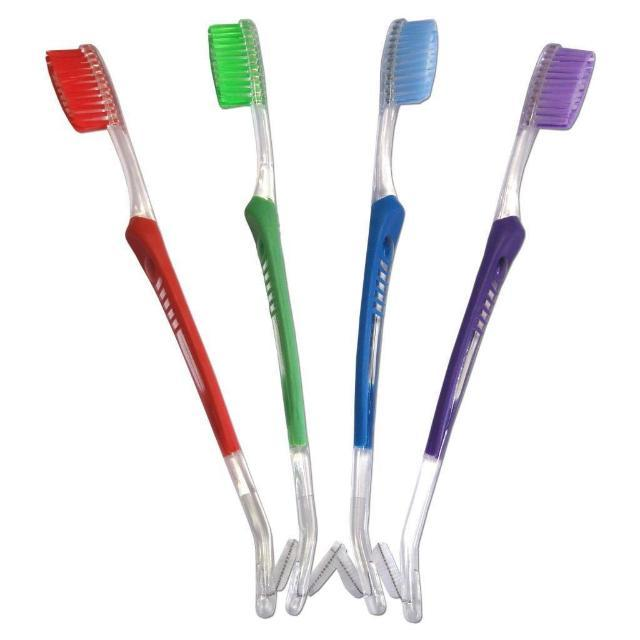toothbrush: (202, 2, 310, 354)
